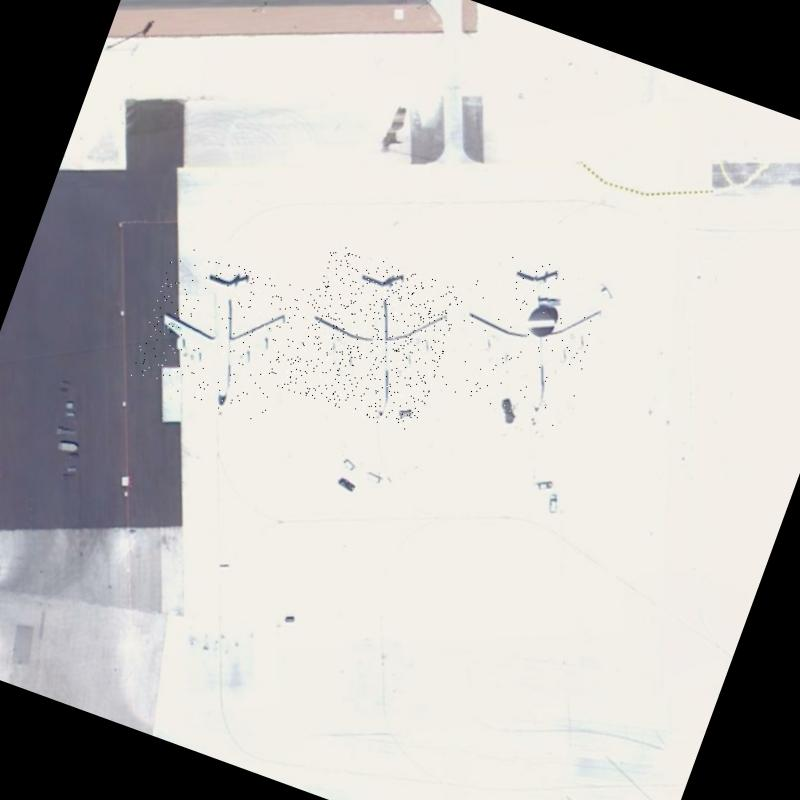A11: (280, 243, 465, 436), (127, 243, 314, 426)
A7: (437, 242, 615, 434)
